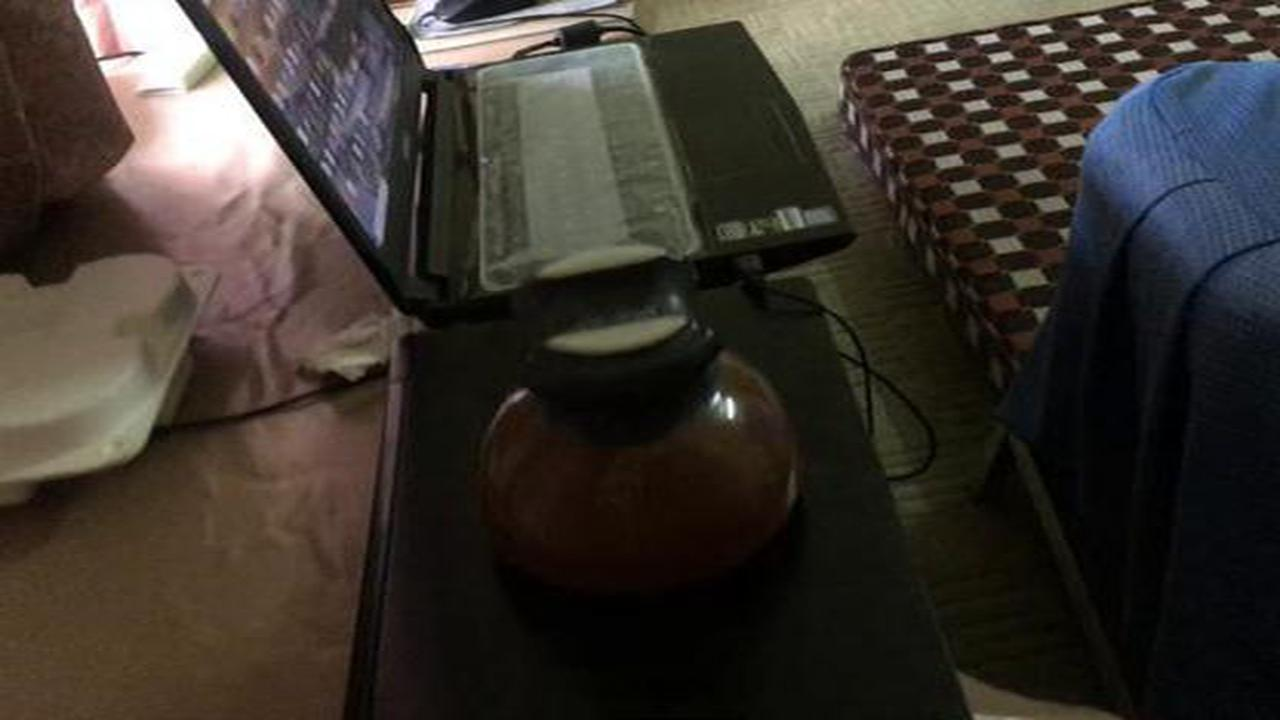insulator_pin: (453, 238, 825, 625)
